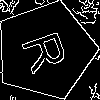R: (20, 26, 78, 75)
